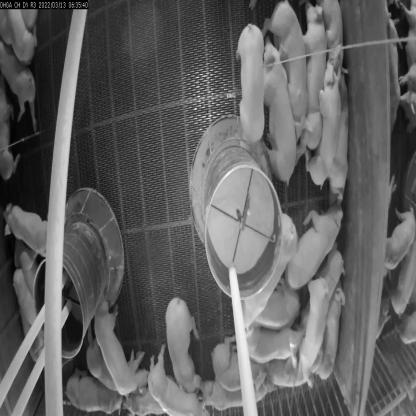Pig: (231, 17, 285, 159), (267, 0, 319, 145), (260, 47, 312, 181), (298, 10, 342, 145), (299, 261, 346, 371), (295, 206, 350, 293), (163, 281, 206, 391), (96, 290, 140, 396), (144, 346, 205, 415), (239, 310, 301, 366), (312, 47, 336, 183), (2, 204, 45, 270), (242, 275, 294, 328), (68, 370, 125, 415)
